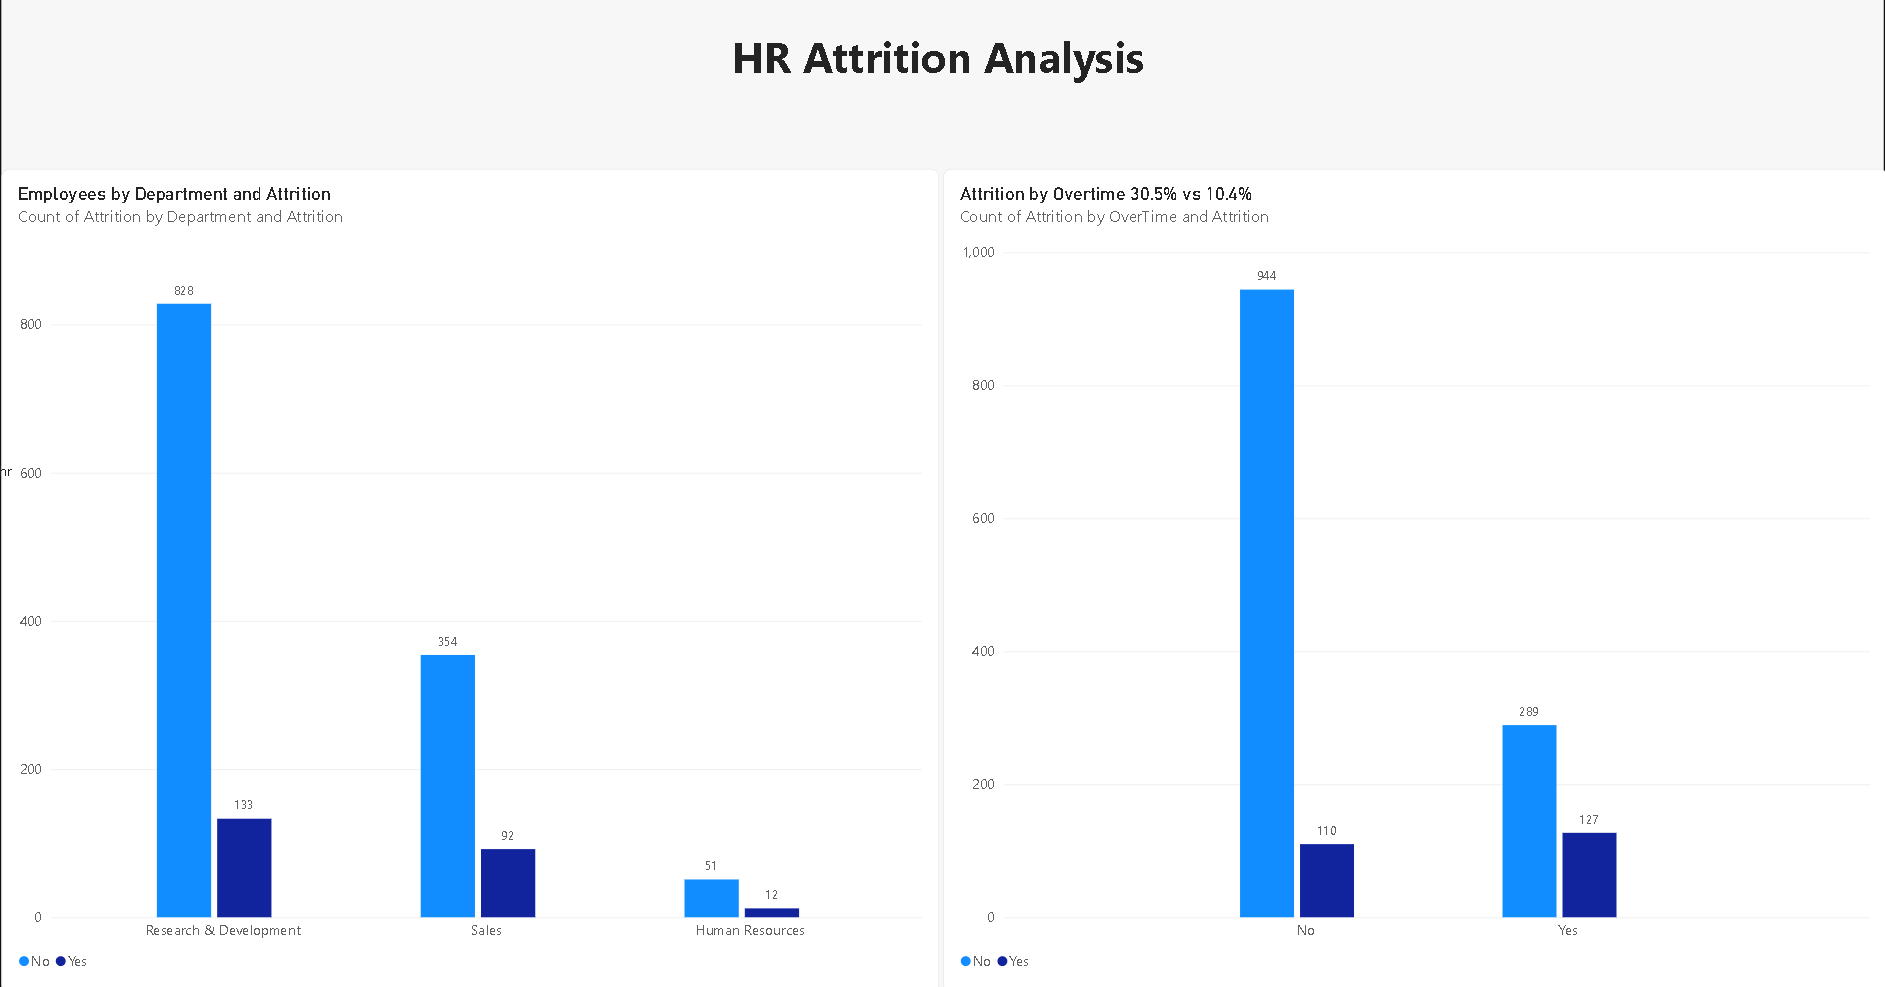

The dashboard page shown, as its layout file describes it:
{"tool":"powerbi","page":{"name":"Page ١","canvas":[1920,1080],"ordinal":0},"visuals":[{"type":"clusteredColumnChart","title":"Employees by Department and Attrition","fields":{"Category":["WA_Fn-UseC_-HR-Employee-Attrition.Department"],"Series":["WA_Fn-UseC_-HR-Employee-Attrition.Attrition"],"Y":["CountNonNull(WA_Fn-UseC_-HR-Employee-Attrition.Attrition)"]},"box":[2.1,242.8,954,837.9],"z":0},{"type":"clusteredColumnChart","title":"Attrition by Overtime 30.5% vs 10.4%","fields":{"Category":["WA_Fn-UseC_-HR-Employee-Attrition.OverTime"],"Series":["WA_Fn-UseC_-HR-Employee-Attrition.Attrition"],"Y":["CountNonNull(WA_Fn-UseC_-HR-Employee-Attrition.Attrition)"]},"box":[960.4,242.8,960.4,837.9],"z":1000},{"type":"textbox","box":[0,539,961,541],"z":2000},{"type":"textbox","box":[99.2,99.2,1712.1,144.6],"z":4001}]}

Visuals, with their boxes in screenshot pixels (x1, y1, x2, y2):
"Employees by Department and Attrition" clusteredColumnChart: 208,186,1037,915
"Attrition by Overtime 30.5% vs 10.4%" clusteredColumnChart: 1041,186,1875,915
textbox: 206,444,1041,914
textbox: 292,62,1780,187
